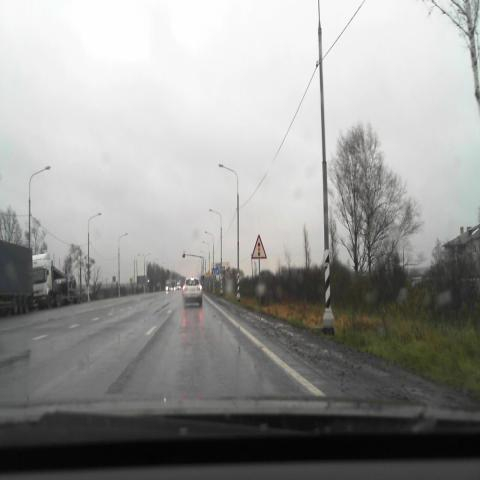1_8: (251, 234, 267, 259)
